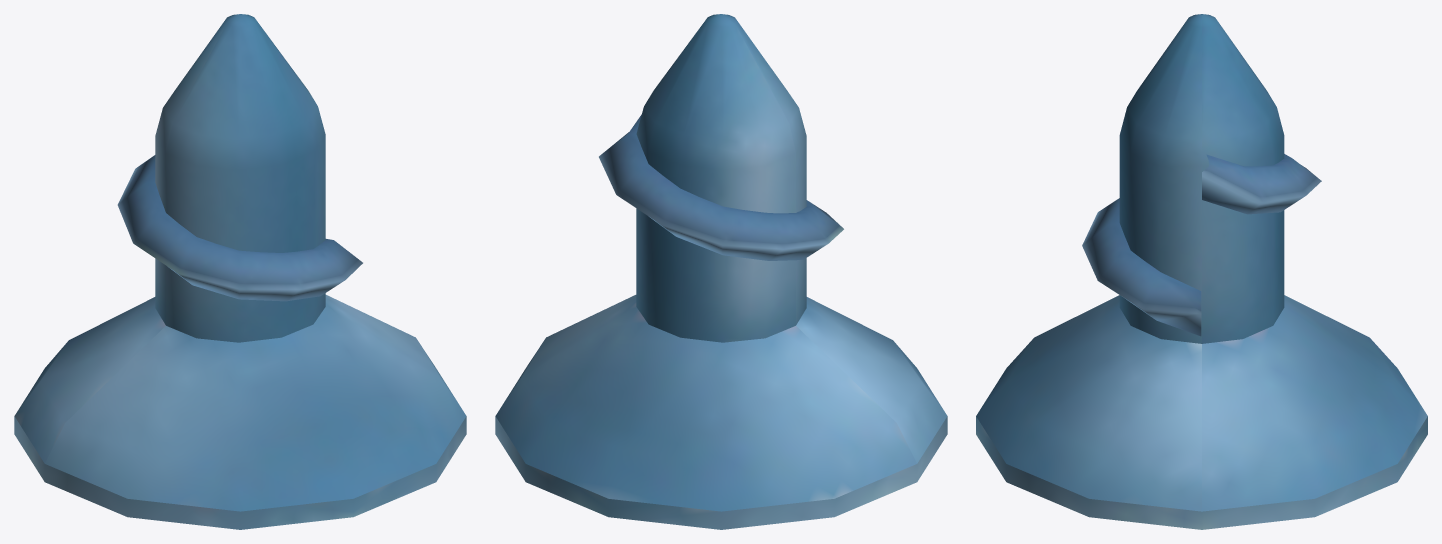
The model's file is luosi05.FBX.
The picture shows the model from 3 angles, left to right: view 1: azimuth 30°, elevation 25°; view 2: azimuth 150°, elevation 25°; view 3: azimuth 270°, elevation 25°; orthographic projection.
Visible parts, largest first — view 1: luosi05; view 2: luosi05; view 3: luosi05.
Part boxes in pixels (x1,y1,x2,y2): luosi05: [14, 14, 466, 529]; luosi05: [495, 14, 947, 529]; luosi05: [976, 14, 1427, 529].
Bounding box in the file's own units: 8.18 × 8.4 × 8.18.
